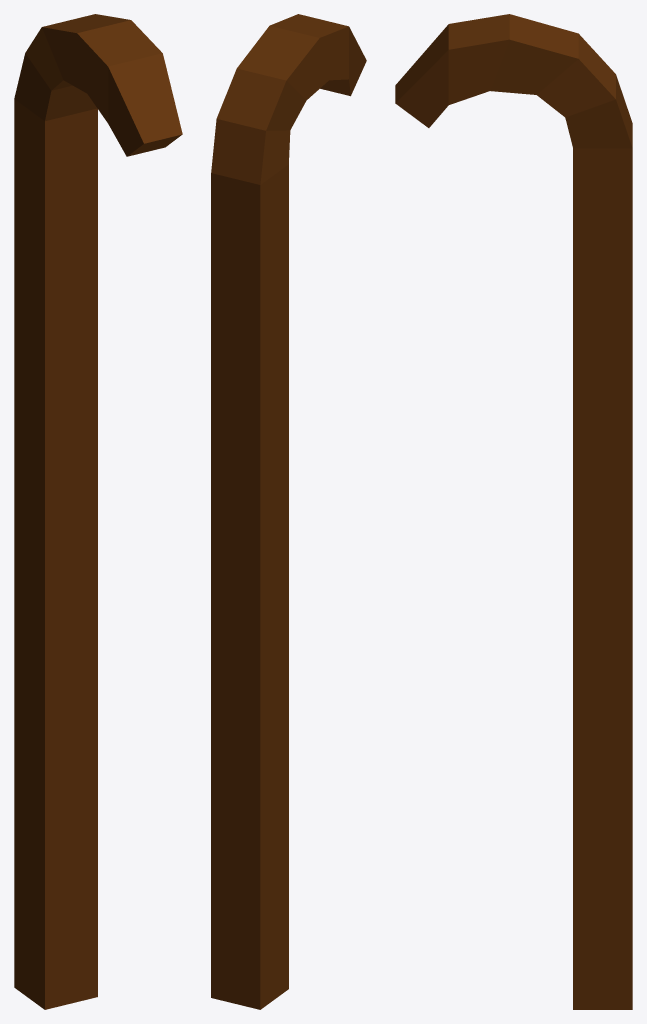
File: baston.fbx
3 renders of one model, left to right at view 1: azimuth 30°, elevation 25°; view 2: azimuth 150°, elevation 25°; view 3: azimuth 270°, elevation 25°, orthographic. The views are drawn at different scales.
Parts seen in each view (by area): view 1: Cube; view 2: Cube; view 3: Cube.
Part boxes in pixels (x1=…): Cube: x1=14, y1=14, x2=182, y2=1009; Cube: x1=211, y1=14, x2=366, y2=1009; Cube: x1=395, y1=14, x2=632, y2=1009.
Size of the model in its own units: 11.13 by 188 by 41.65.
